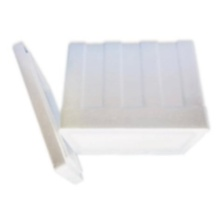foam_box: (8, 33, 214, 191)
